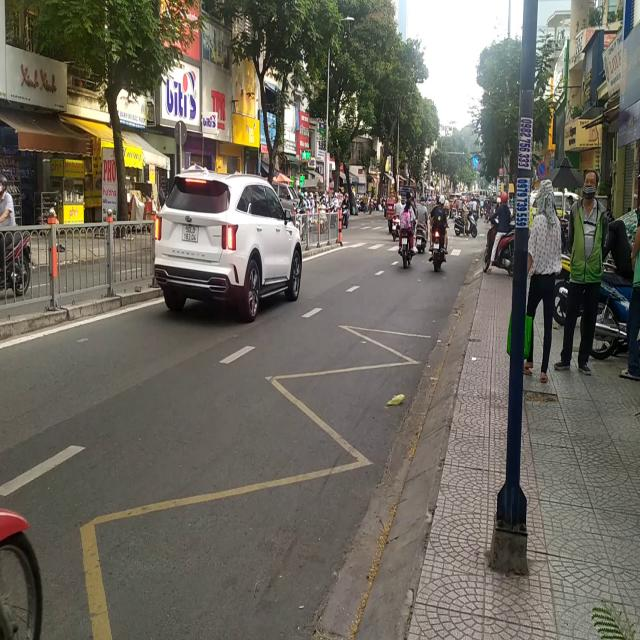bien_trang: (180, 223, 200, 242)
